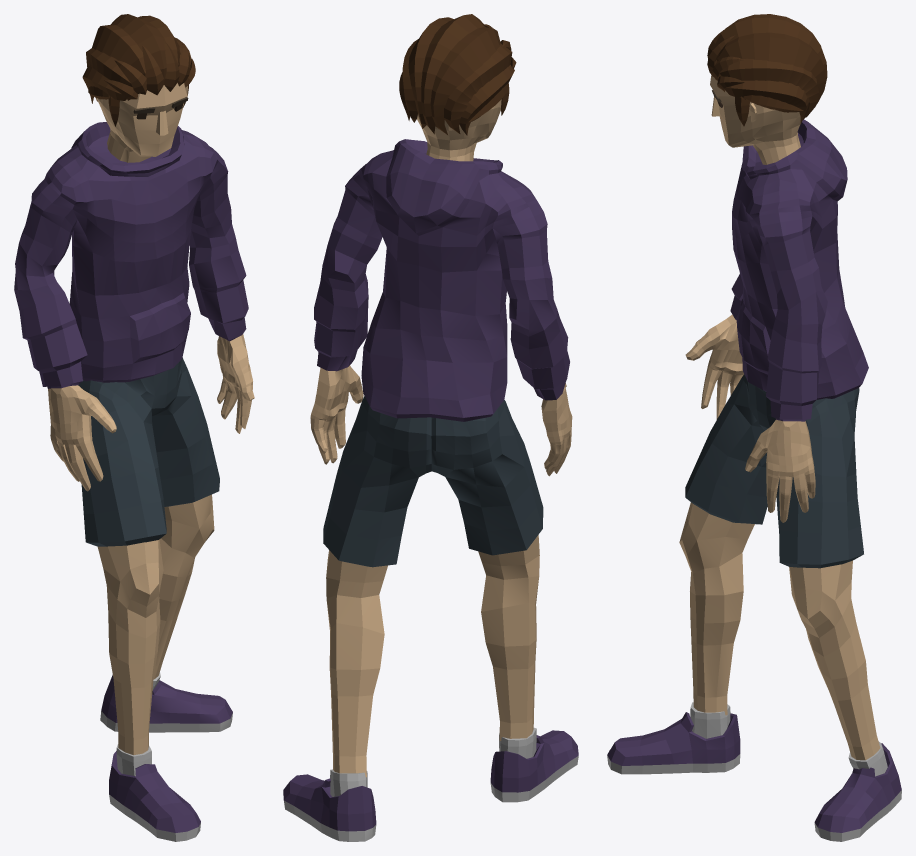
File: quaternius-char-hoodie.glb
3 renders of one model, left to right at view 1: azimuth 30°, elevation 25°; view 2: azimuth 150°, elevation 25°; view 3: azimuth 270°, elevation 25°, orthographic. The views are drawn at different scales.
Visible parts, largest first — view 1: Casual_Body; view 2: Casual_Body; view 3: Casual_Body.
Part boxes in pixels (x1=…): Casual_Body: x1=14, y1=14, x2=254, y2=841; Casual_Body: x1=283, y1=14, x2=578, y2=841; Casual_Body: x1=607, y1=14, x2=901, y2=841.
Bounding box in the file's own units: 0.5996 × 1.82 × 0.6386.
